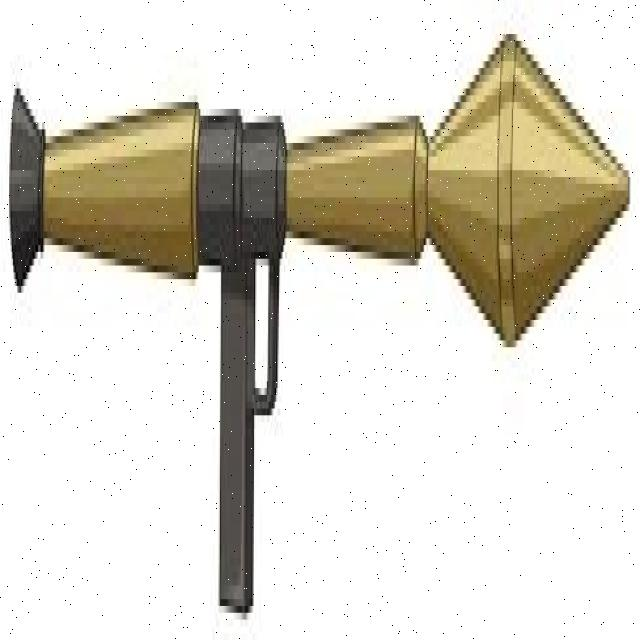bazooka: (4, 16, 639, 640)
